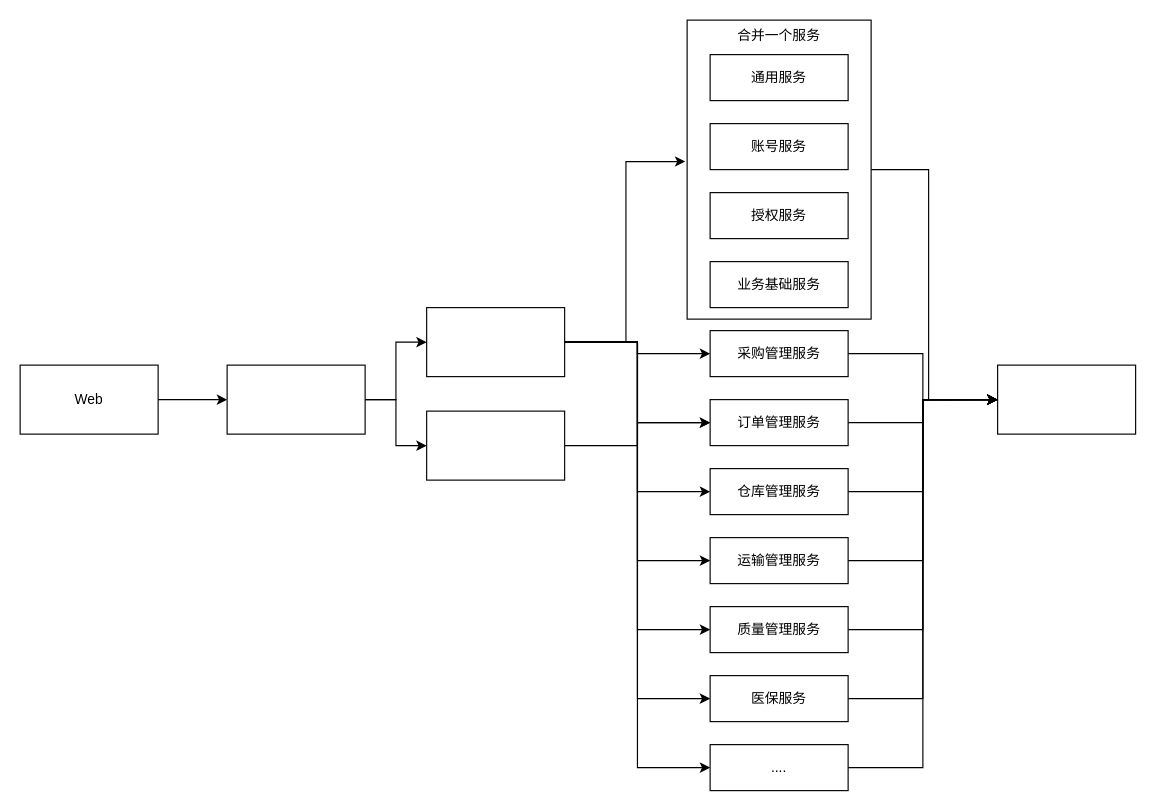
Some shapes in this 1156 by 811 pixel diagram are drawn without their labels. Here are the shapes that lost their labels. From the top down, the centre of each, then its label:
pixel 495 341: 运营服务
pixel 295 399: 网关Gateway
pixel 1066 399: Mysql
pixel 495 445: 终端服务
